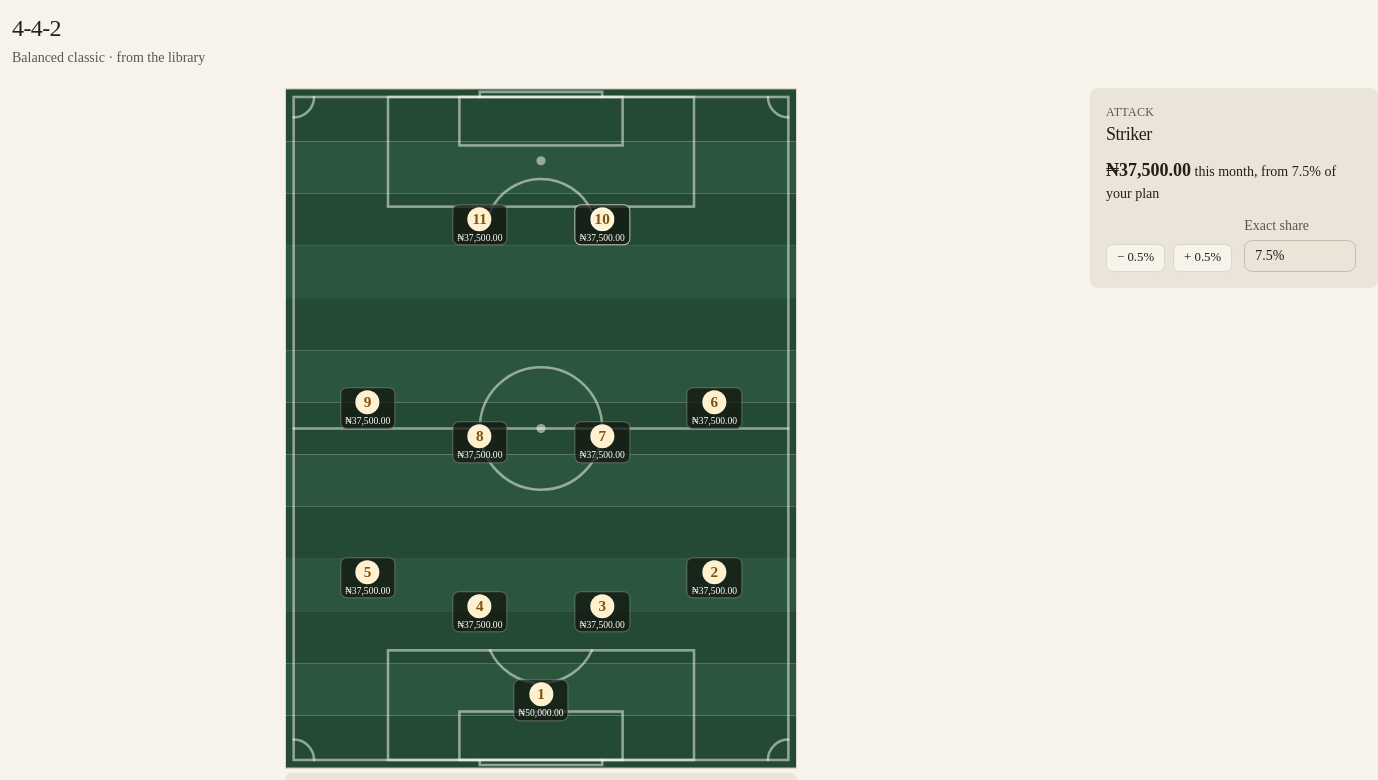
Test: warnings (AC-5) › says so when the keeper spot is drained to nothing
Replace the text in the field labelled "Exact share" with "60%" at (1300, 256), box left=1244, top=240, right=1356, bottom=272
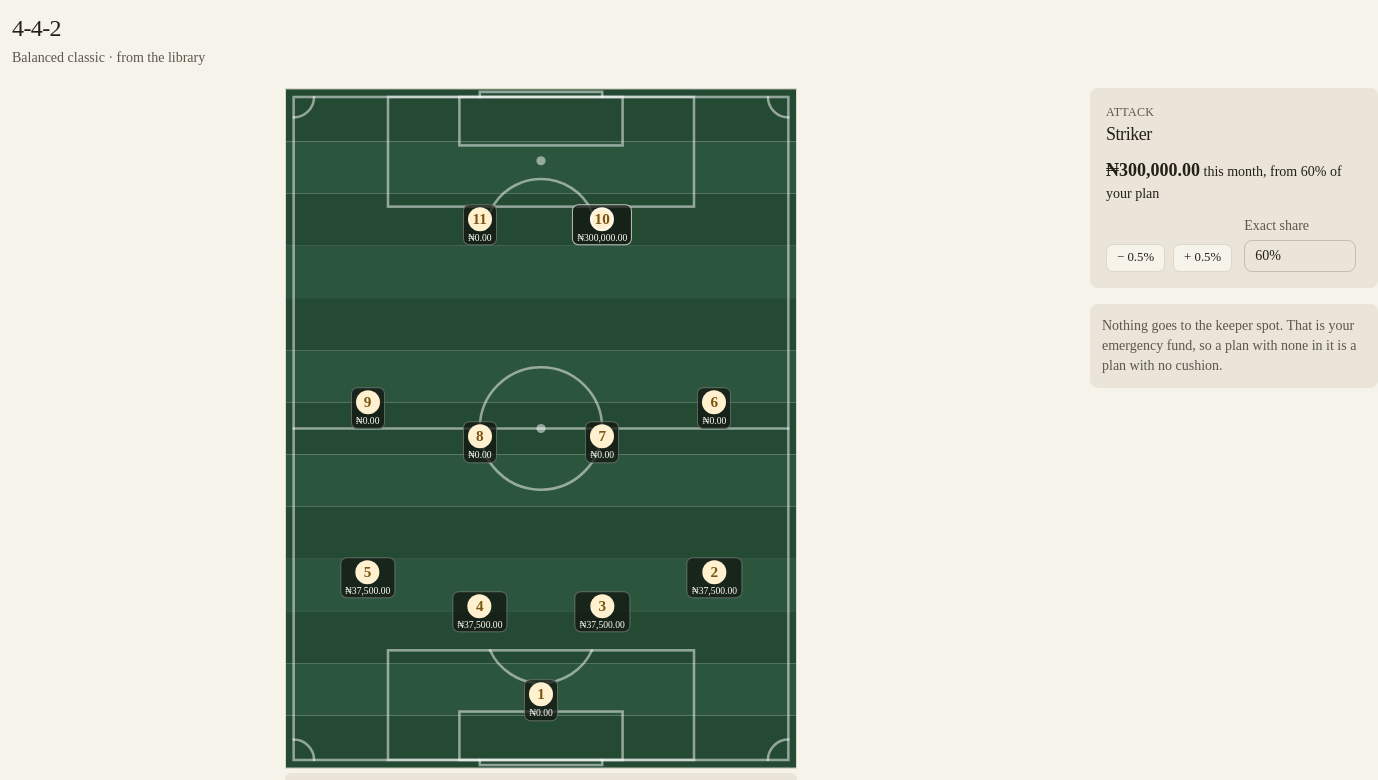
expect the text "Nothing goes to the keeper spot" is shown: met, box left=1102, top=318, right=1356, bottom=373
